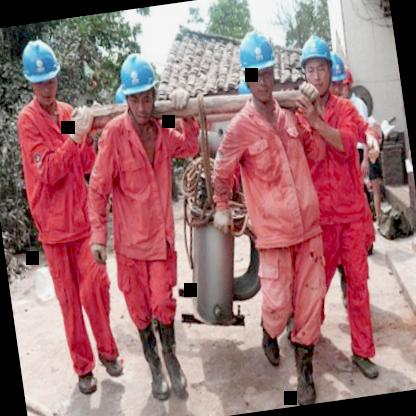helmet: (112, 45, 168, 135), (230, 22, 284, 110), (15, 30, 67, 111), (294, 28, 342, 102), (323, 52, 350, 104), (336, 61, 358, 102)
